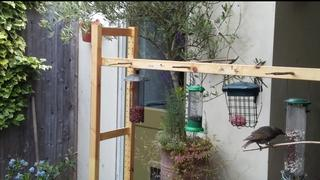starling: (242, 126, 287, 151)
